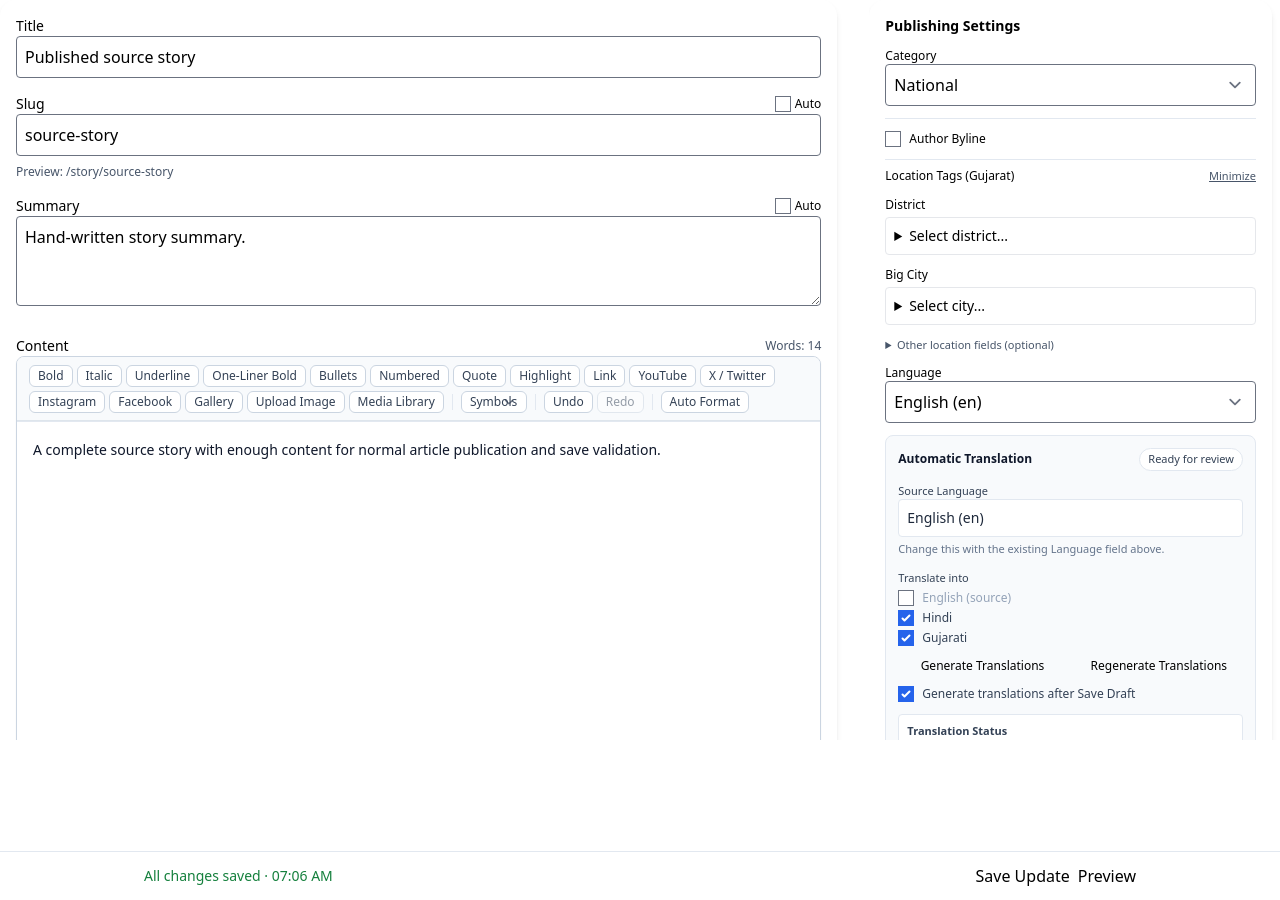
Test: Founder Edit Published - Save Update › applies the saved Backend values after a slow group refresh without replacing dirty input (false)
Replace the text in the field below "Title" with "Submitted headline" at (419, 57), box [16,36,821,78]
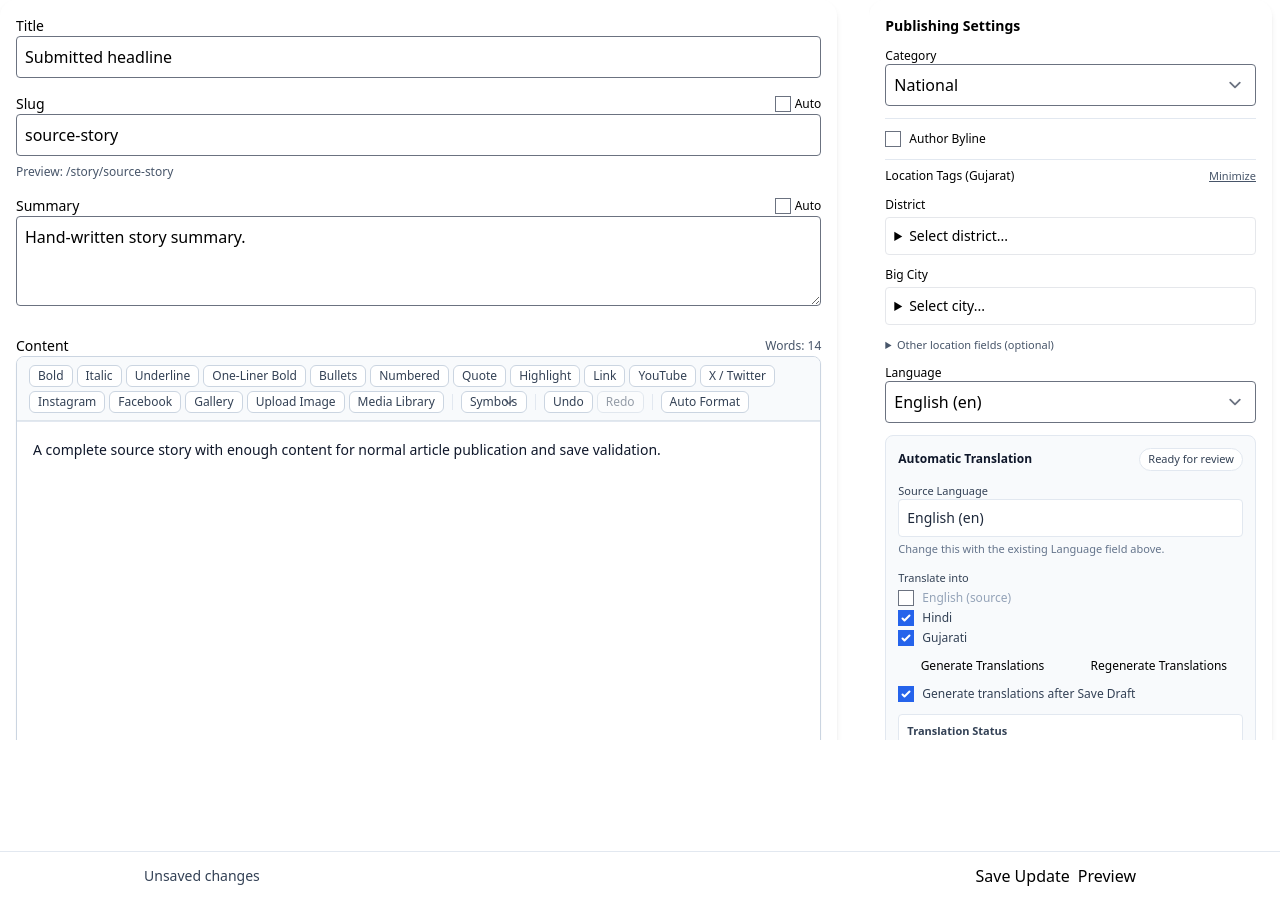
Click the button "Save Update" at (1023, 876), box [976,864,1070,888]
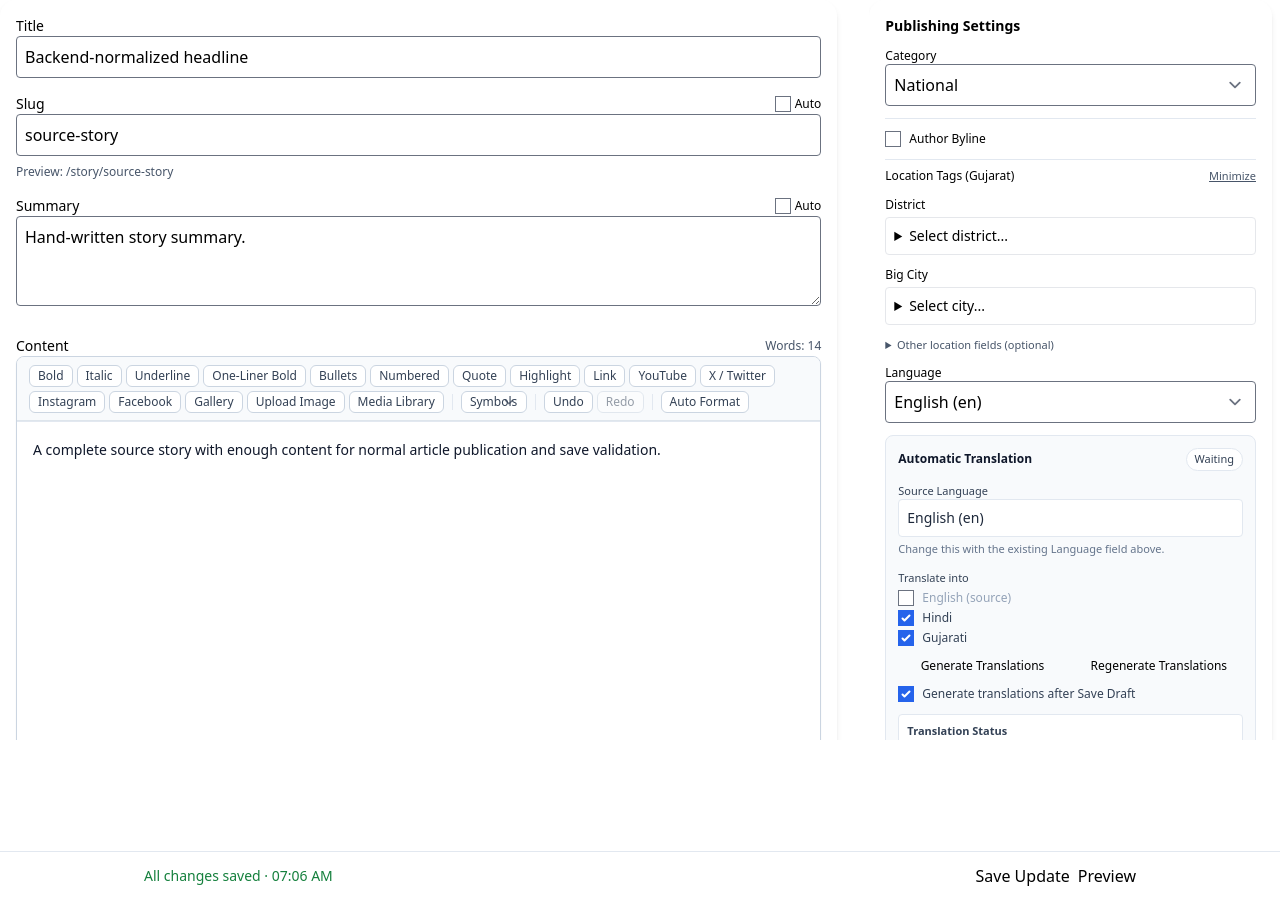
Expected: the field below "Title" holds "Backend-normalized headline", [16,36,821,78]
